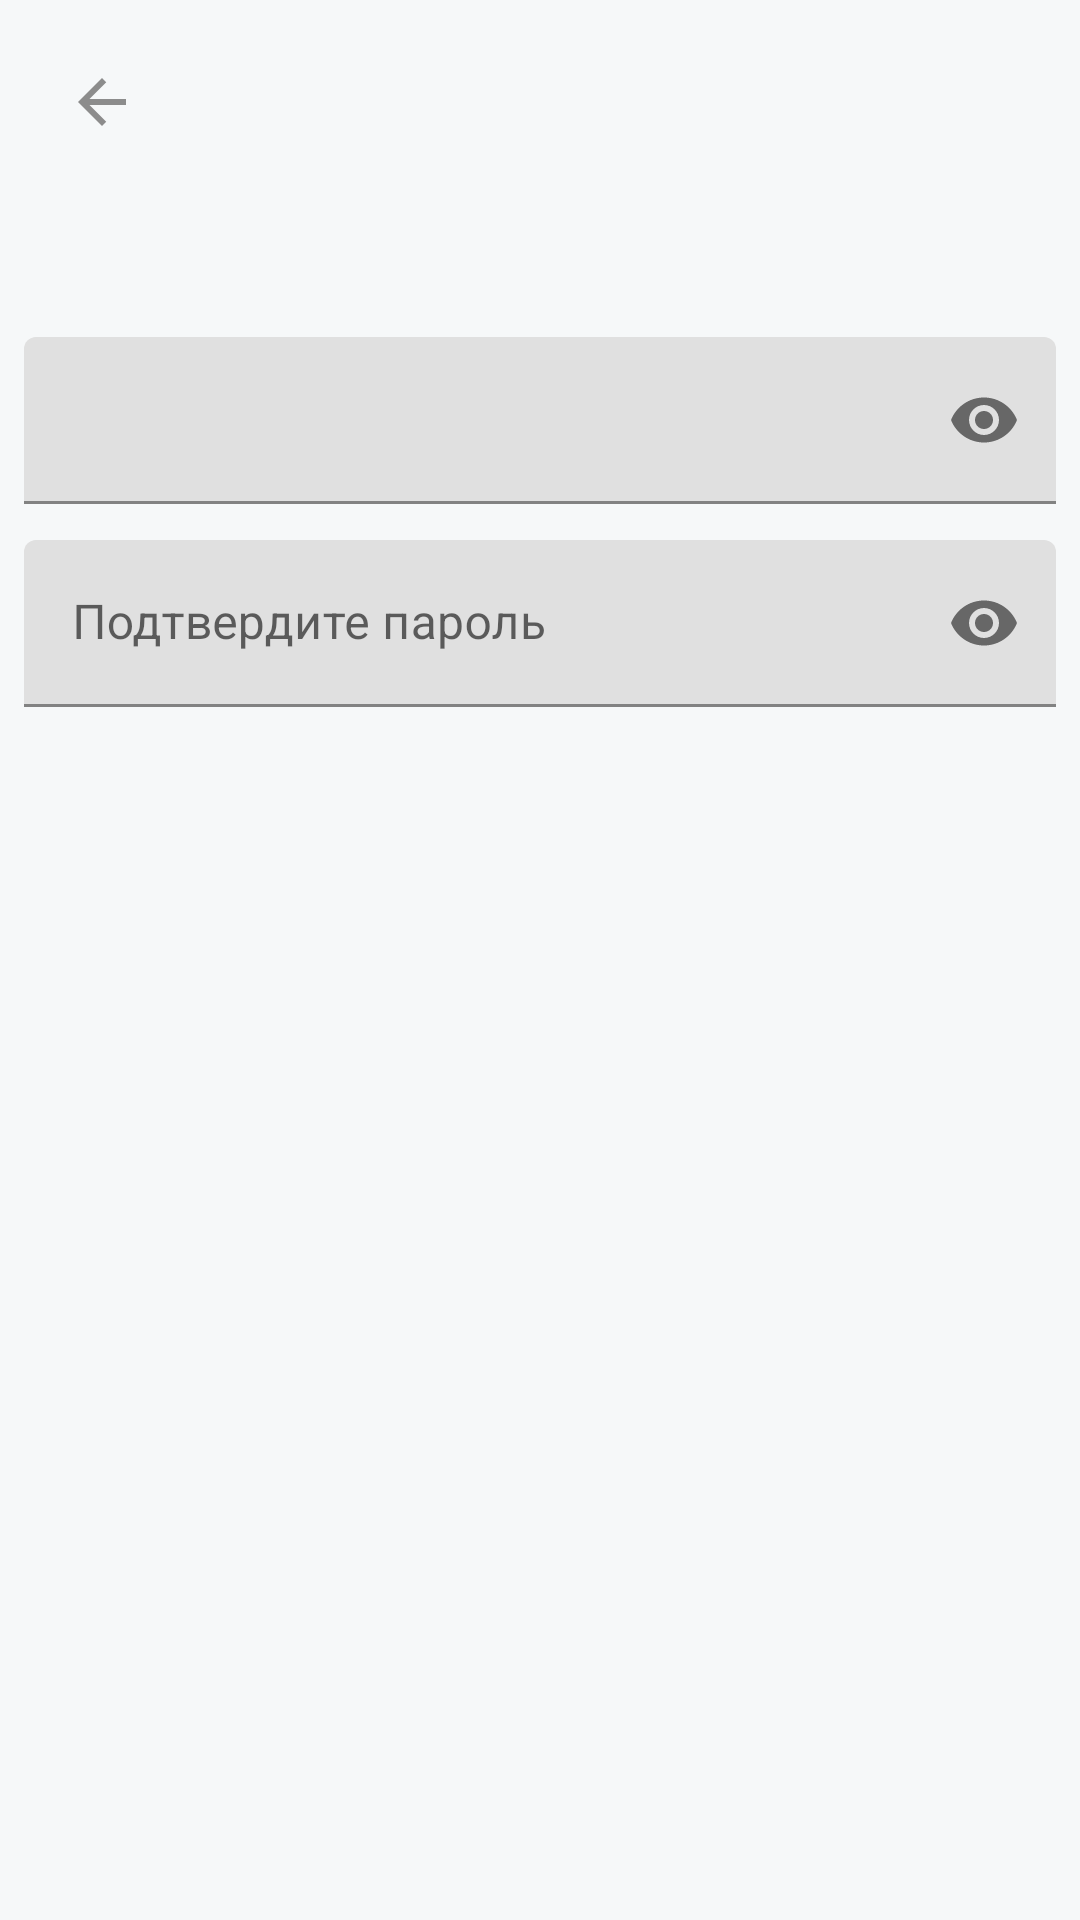

Icon click points for this 1080 x 1920 phone screenshot, format point (x, y):
vicon arrow back: point (102, 102)
